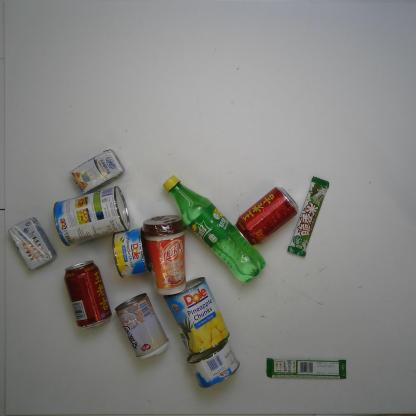Canned Food: (48, 182, 133, 250), (162, 275, 232, 356), (113, 290, 170, 360), (184, 338, 242, 389), (109, 225, 151, 280)
Chocolate: (284, 175, 332, 257), (263, 356, 348, 382)
Drink: (154, 175, 267, 285), (230, 186, 302, 248), (62, 257, 113, 332)
Instant Drink: (138, 213, 189, 296)
Milk: (65, 148, 126, 196), (7, 215, 57, 271)
